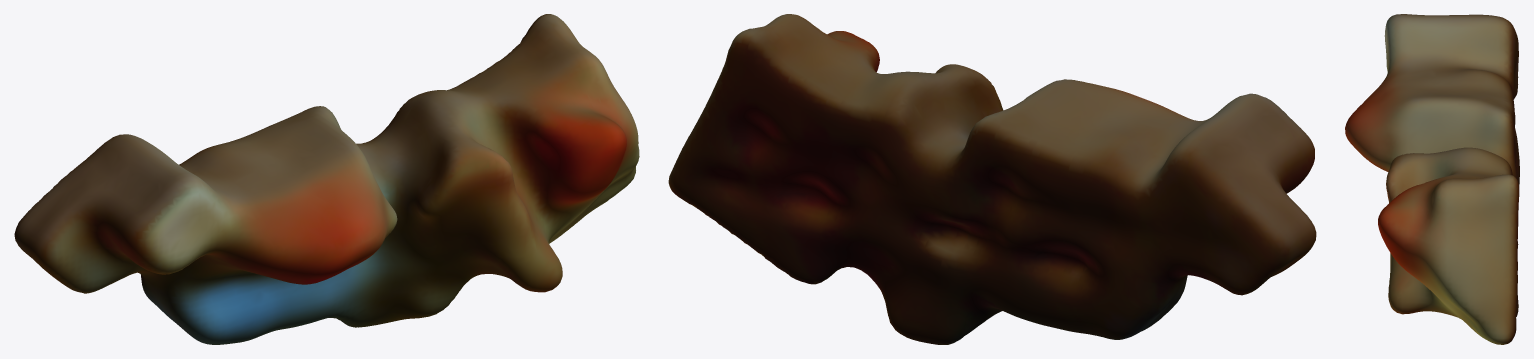
Rendered from blocks.glb.
The picture shows the model from 3 angles, left to right: view 1: azimuth 30°, elevation 25°; view 2: azimuth 150°, elevation 25°; view 3: azimuth 270°, elevation 25°; orthographic projection. The views are drawn at different scales.
Size of the model in its own units: 0.9993 by 0.4089 by 0.3116.
